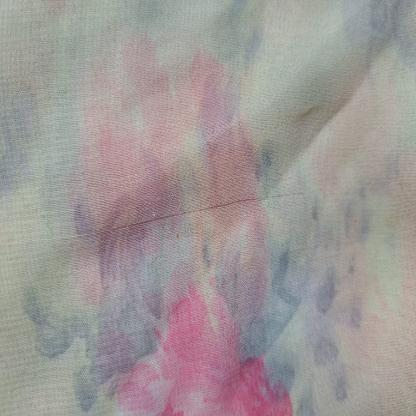spot: (284, 103, 322, 125), (174, 228, 184, 244)
